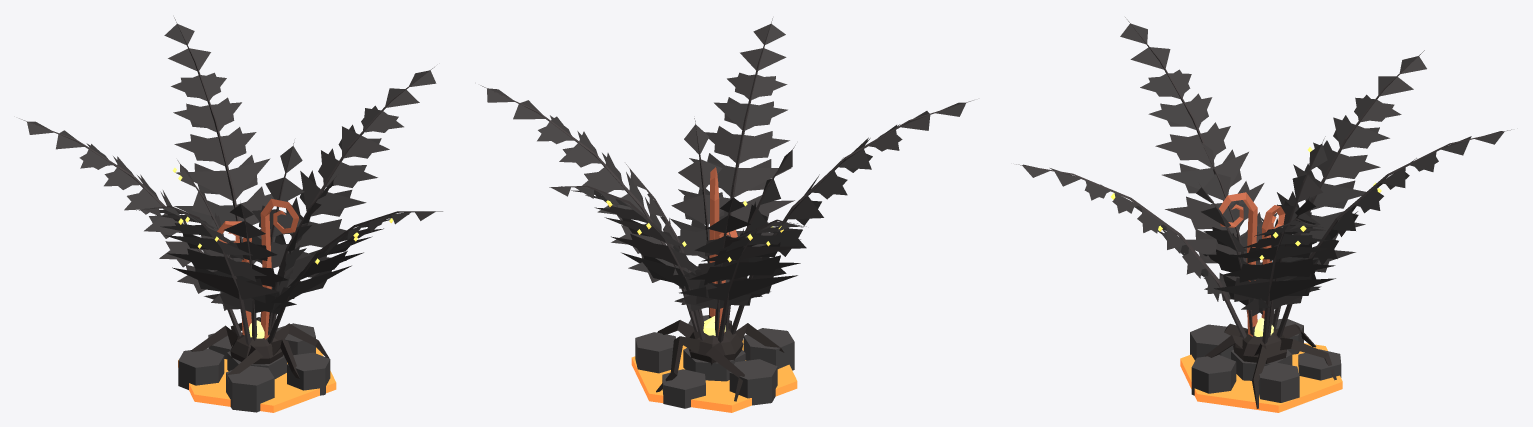
Rendered from plant_t3_c.fbx.
The picture shows the model from 3 angles, left to right: view 1: azimuth 30°, elevation 25°; view 2: azimuth 150°, elevation 25°; view 3: azimuth 270°, elevation 25°; orthographic projection. The views are drawn at different scales.
Visible parts, largest first — view 1: plant_t3_c; view 2: plant_t3_c; view 3: plant_t3_c.
Part boxes in pixels (<box>): plant_t3_c: <box>19,17,442,412</box>; plant_t3_c: <box>480,18,973,412</box>; plant_t3_c: <box>1016,17,1511,412</box>.
Size of the model in its own units: 78.26 by 49.93 by 85.46.
